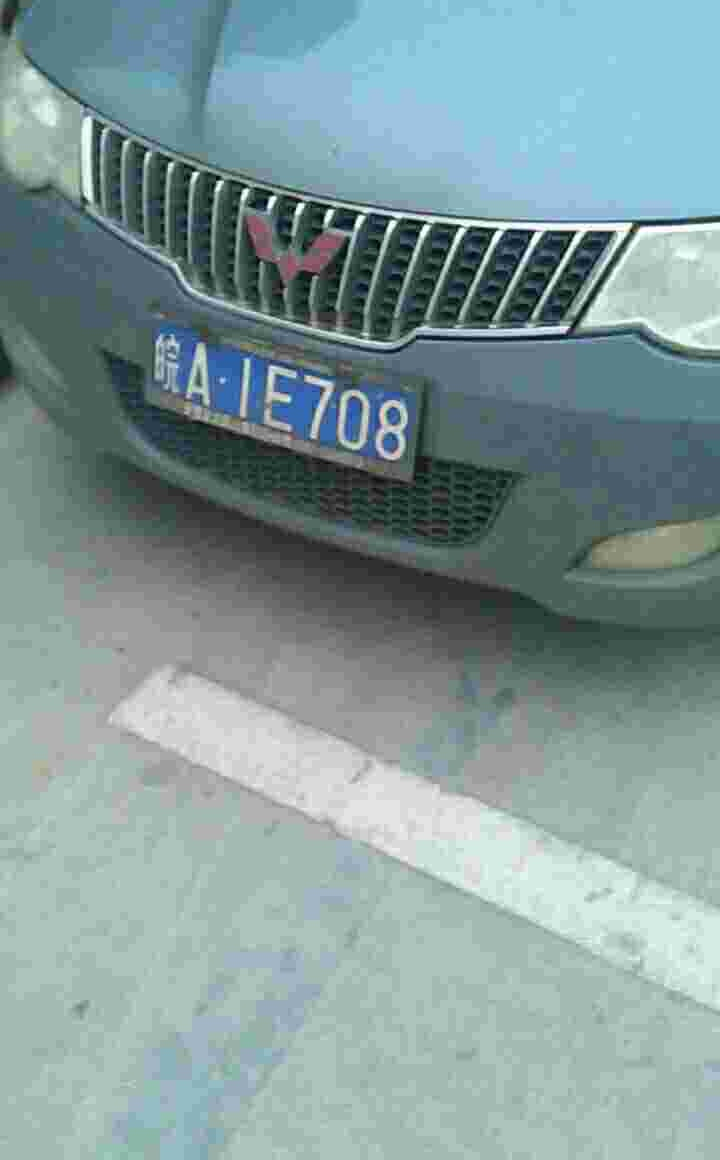license_plate: (152, 320, 413, 469)
